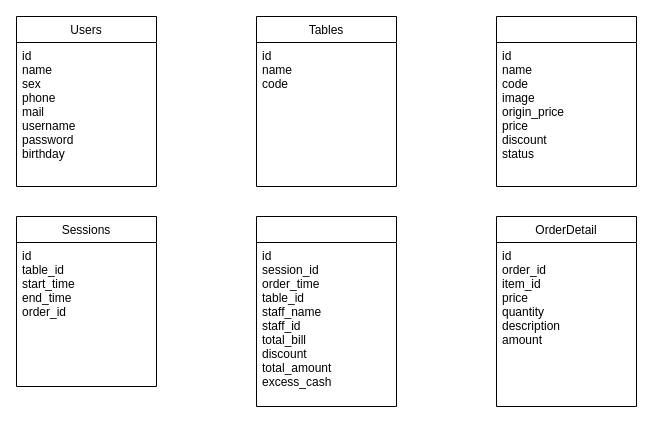
The diagram is 653 pixels wide and 423 high, and some of its shapes have lost their labels. Each missing label, with the box of its shape:
Items: (496, 16, 636, 186)
Orders: (256, 216, 396, 406)
